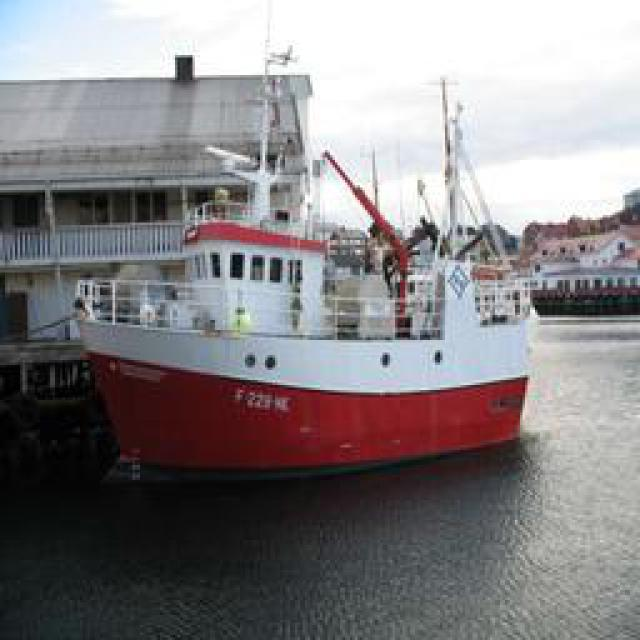Ship: (70, 42, 544, 493)
